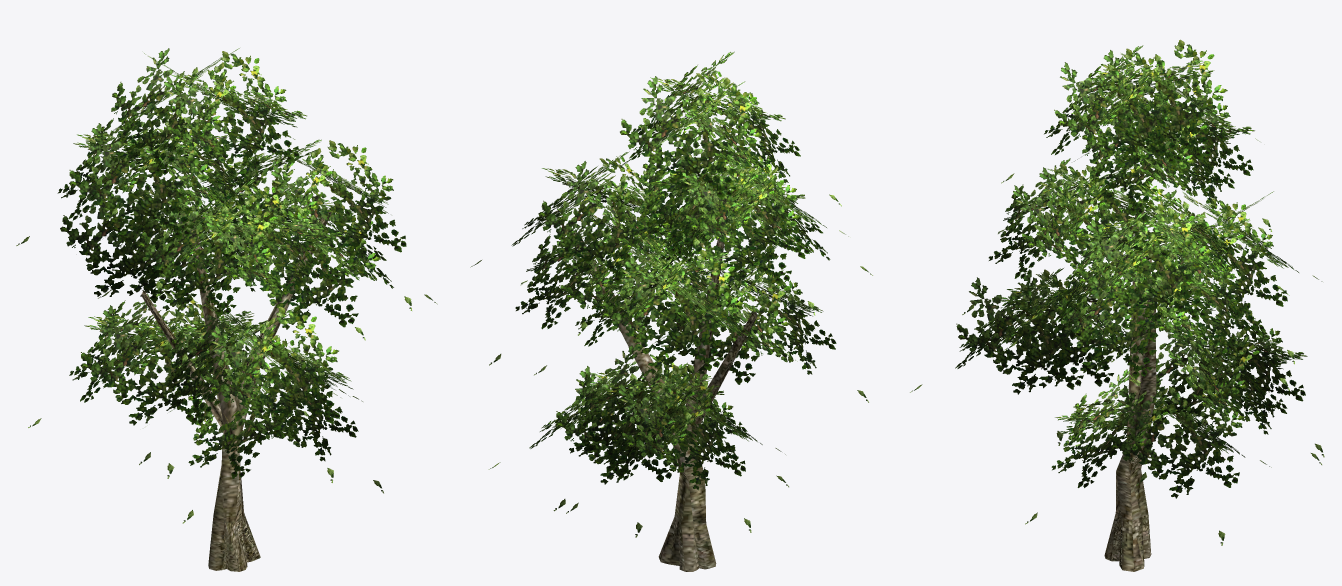
The model's file is oak-large-3.glb.
3 renders of one model, left to right at view 1: azimuth 30°, elevation 25°; view 2: azimuth 150°, elevation 25°; view 3: azimuth 270°, elevation 25°, orthographic.
Visible parts, largest first — view 1: oak-large-3; view 2: oak-large-3; view 3: oak-large-3.
Boxes of the visible parts, <box> form: oak-large-3: <box>16,48,437,571</box>; oak-large-3: <box>470,51,872,571</box>; oak-large-3: <box>910,39,1324,571</box>.
Size of the model in its own units: 16.59 by 22.09 by 16.9.
2 materials, 2 textured.
